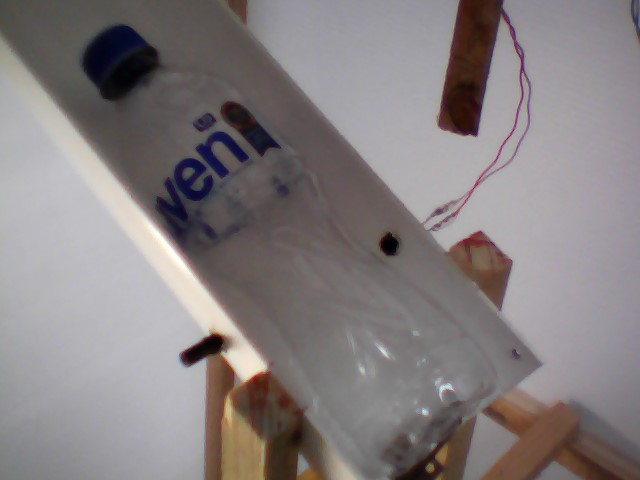plastico: (67, 16, 505, 480)
